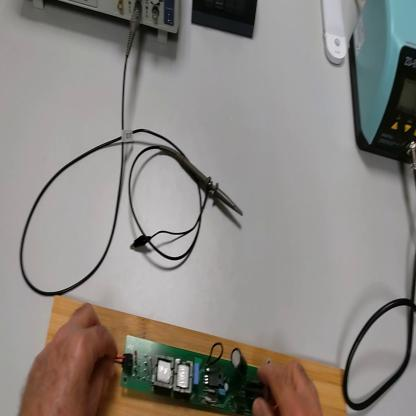hand: (21, 303, 118, 415), (253, 359, 323, 415)
high voltage board: (106, 336, 274, 415)
oscilloscope: (32, 2, 182, 49)
oscilloscope probe tip: (166, 150, 245, 221)
welder station: (347, 1, 416, 165)
working area: (47, 299, 348, 413)
